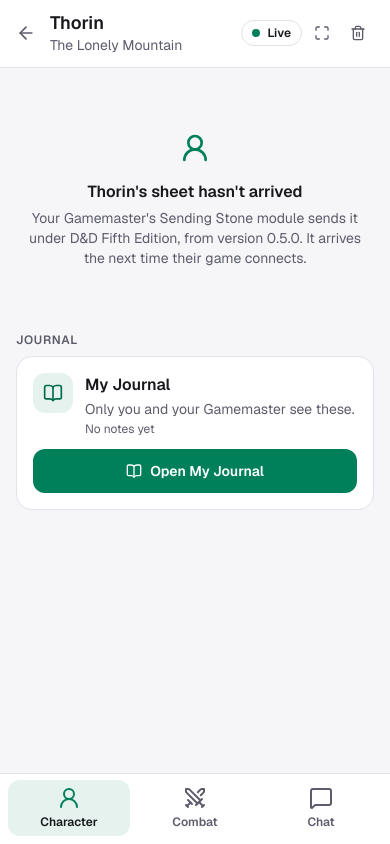
components/game-table/game-table › unread messages › still counts messages as read when saving how far fails
Step 1. Click the button "Chat" → x=321, y=808, box [260,780,382,836]
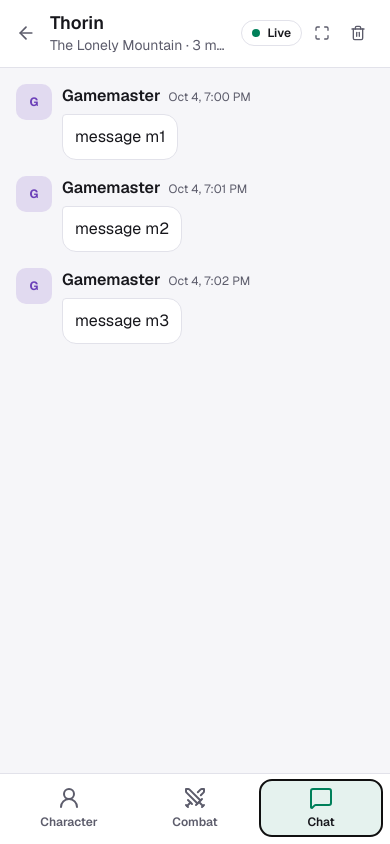
Now the text "message m3" is shown, box [62,298,182,344]
